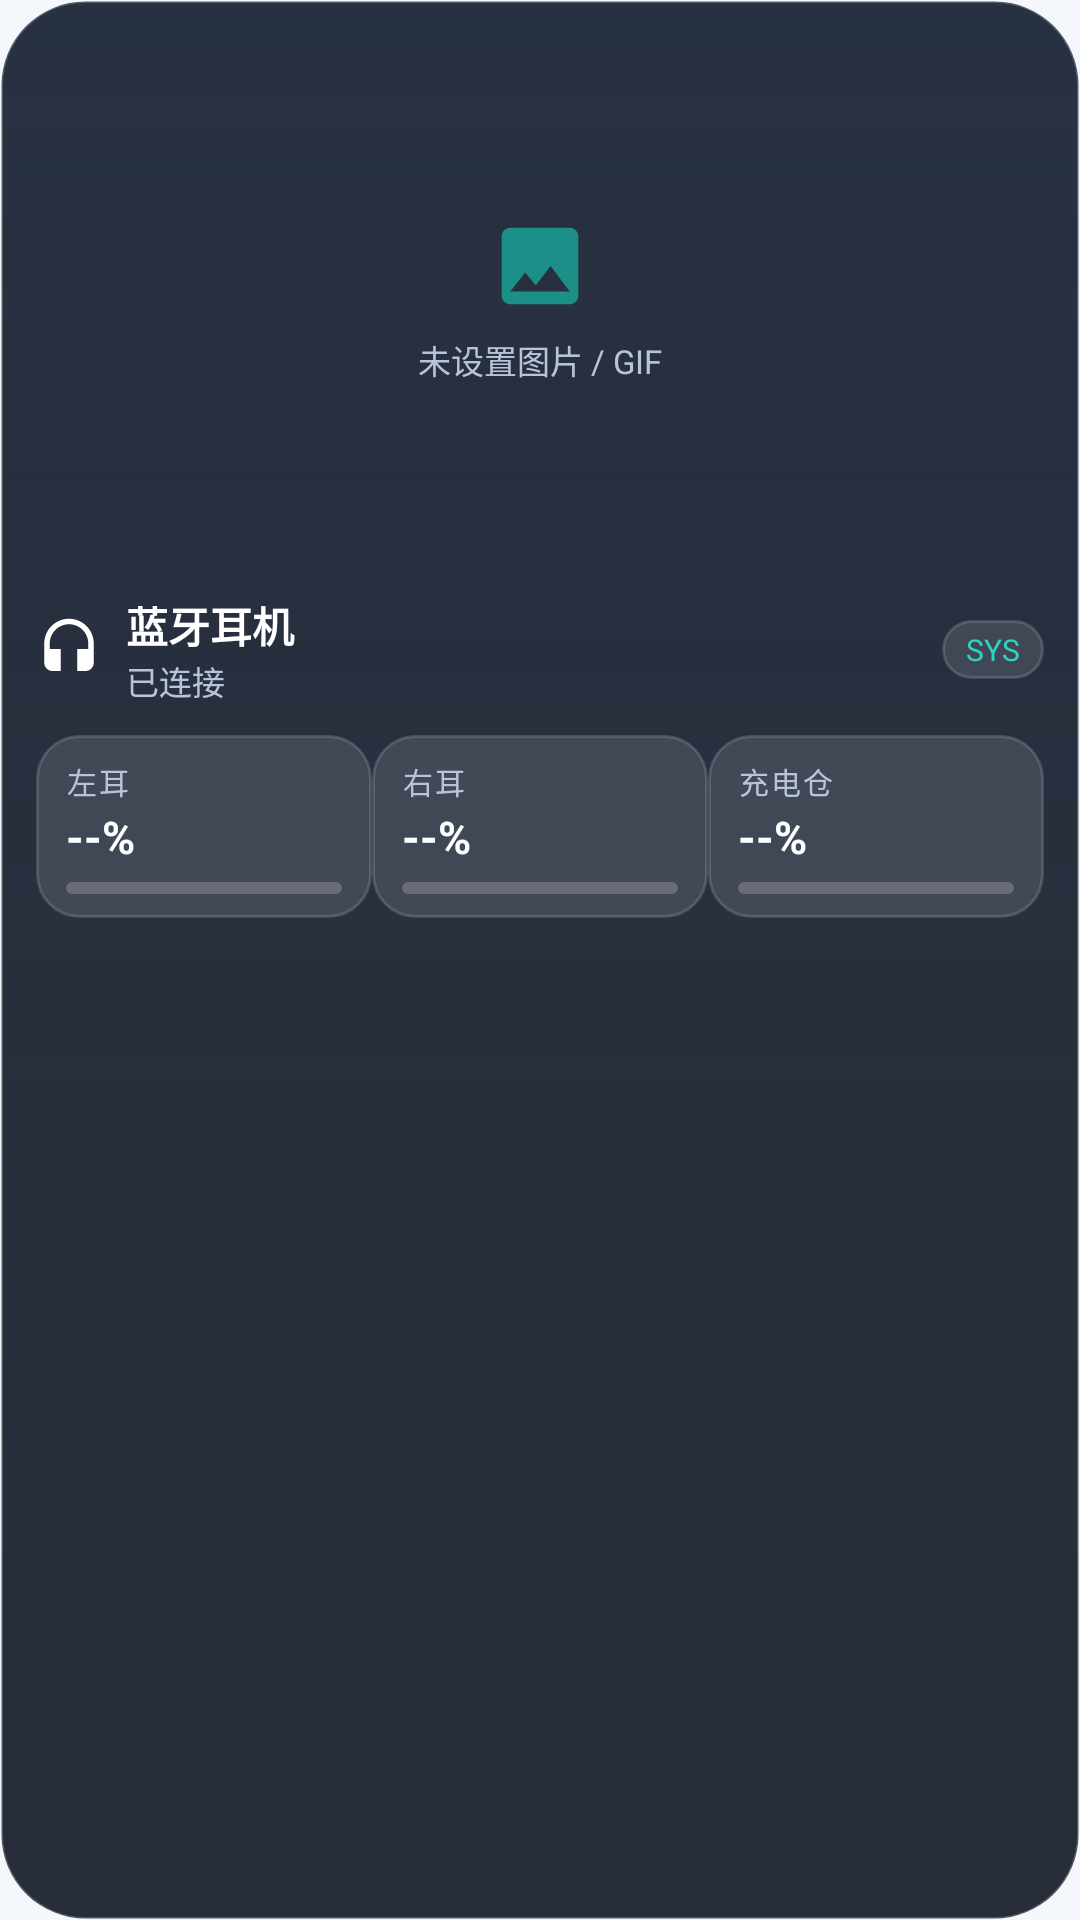

Icons on this 1080×1920 Android screen, each with the point to tap as [x,y]:
headset: [69,644]
